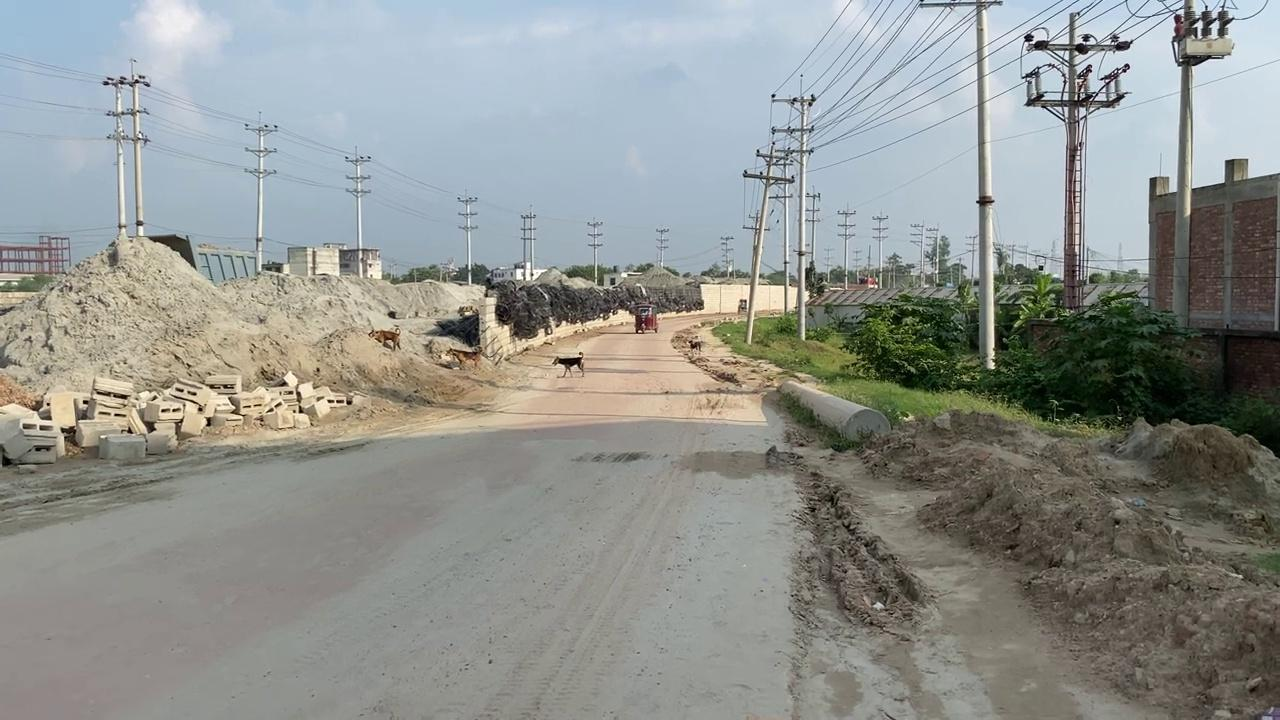Animal: (551, 351, 584, 377), (446, 346, 481, 369), (368, 328, 400, 350)
Dog: (687, 336, 702, 353)
Fence: (0, 234, 70, 274)
Garbage: (0, 368, 353, 466)
Garbage-bin: (633, 304, 657, 333)
Muddy road: (1, 308, 1157, 717)
Obstacle: (97, 432, 146, 461)
Pole: (973, 3, 996, 371), (1171, 1, 1196, 329), (102, 76, 128, 238), (127, 58, 147, 236)
Sidewalk: (764, 384, 1158, 718)
